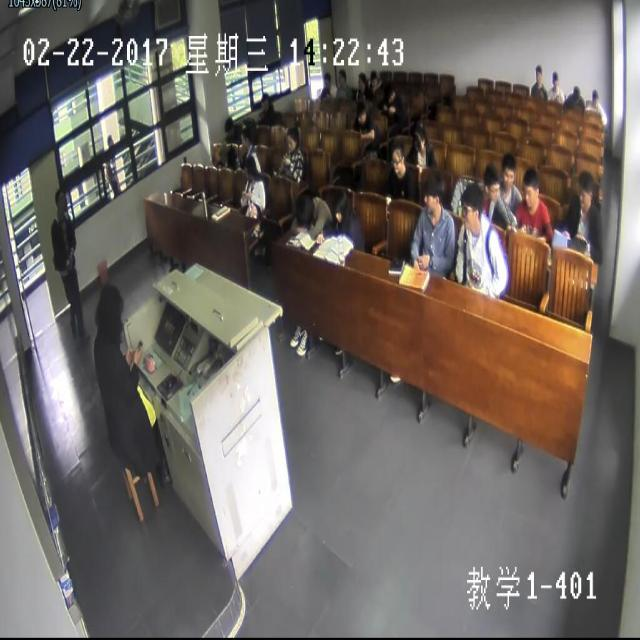person: (98, 284, 120, 332), (462, 182, 481, 229), (425, 171, 442, 214), (522, 168, 538, 209), (578, 170, 593, 207), (484, 162, 498, 200), (296, 193, 312, 223), (333, 190, 348, 222), (502, 152, 514, 188), (391, 143, 404, 173), (413, 122, 424, 149), (54, 188, 65, 212), (286, 128, 297, 150), (244, 155, 254, 179), (240, 128, 250, 150), (384, 80, 392, 102), (356, 100, 364, 122), (225, 114, 233, 133), (240, 121, 250, 136), (535, 62, 542, 80), (338, 68, 345, 86), (261, 93, 268, 109), (358, 70, 364, 88), (370, 68, 376, 84), (572, 84, 578, 99), (323, 71, 329, 86), (552, 71, 558, 85), (592, 89, 597, 102)
